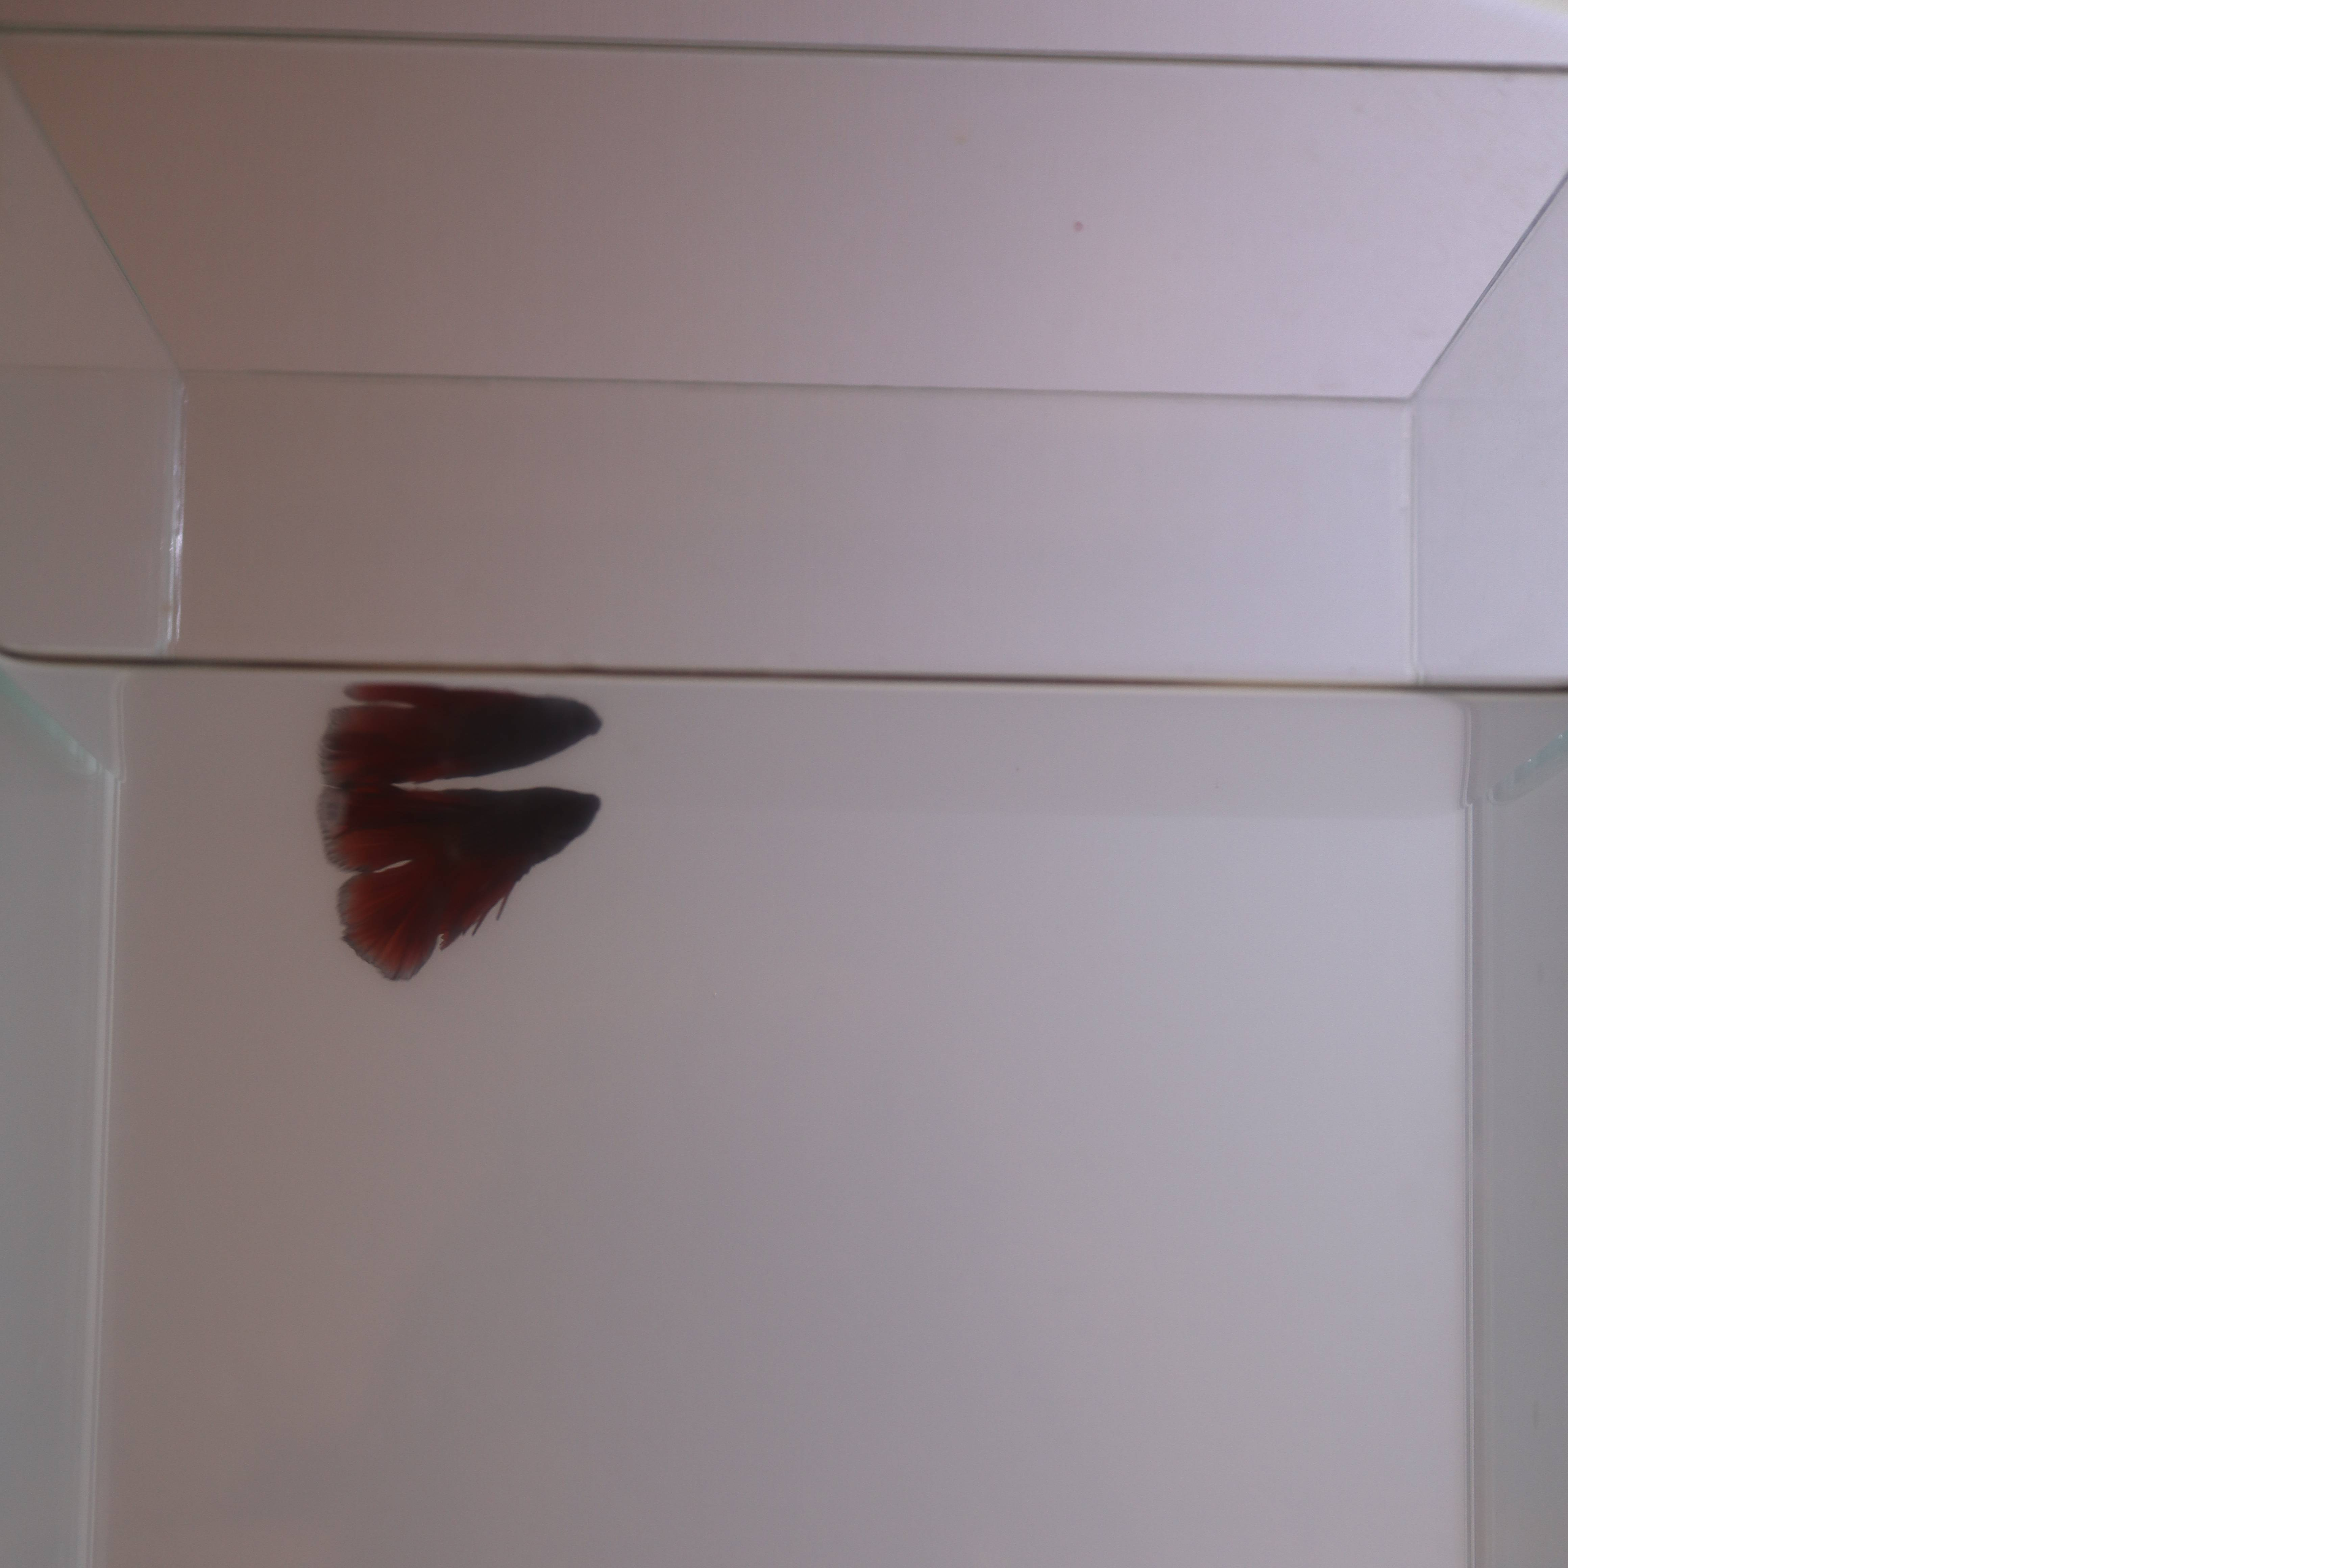fish: (305, 756, 612, 984)
